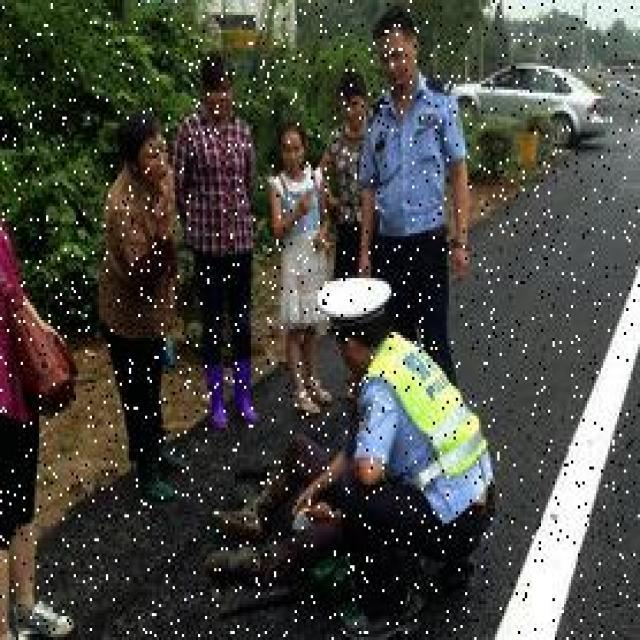fall: (194, 404, 370, 577)
